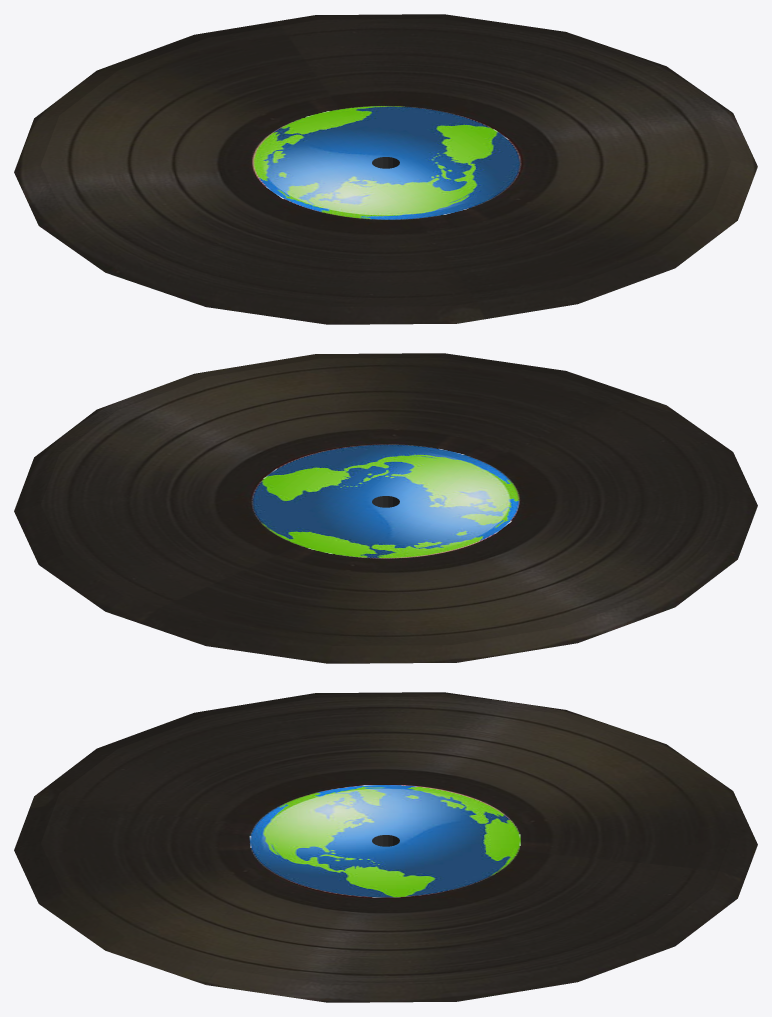
Rendered from Vinyl_Earth.FBX.
3 renders of one model, top to bottom at view 1: azimuth 30°, elevation 25°; view 2: azimuth 150°, elevation 25°; view 3: azimuth 270°, elevation 25°, orthographic.
Visible parts, largest first — view 1: Cylinder008; view 2: Cylinder008; view 3: Cylinder008.
Part boxes in pixels (x1=…): Cylinder008: x1=14, y1=14, x2=757, y2=324; Cylinder008: x1=14, y1=353, x2=757, y2=663; Cylinder008: x1=14, y1=692, x2=757, y2=1002.
Bounding box in the file's own units: 27.07 × 0.5018 × 27.4.
Materials: 1 (1 with a texture image).
